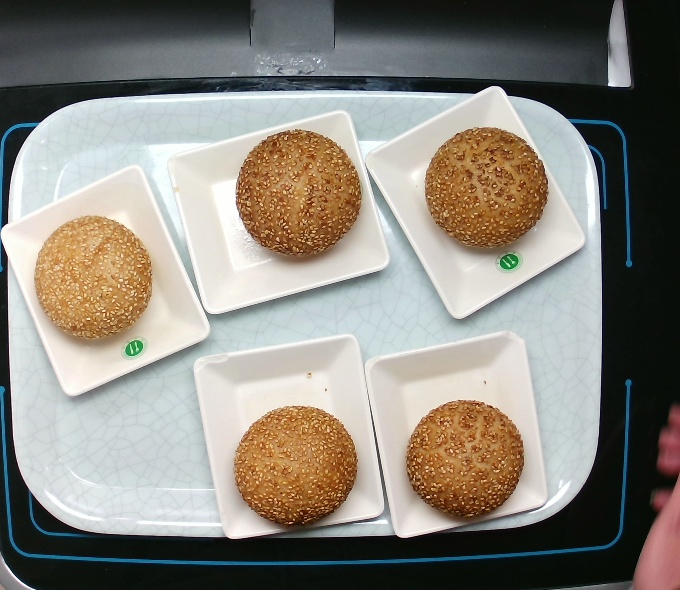wcq-MaCi: (220, 403, 365, 539), (401, 393, 537, 531), (424, 123, 556, 261), (29, 215, 150, 350), (238, 130, 357, 264)
